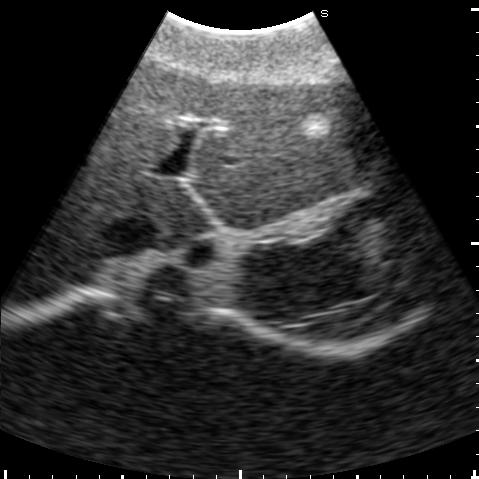IVC: (102, 216, 161, 258)
S1: (143, 181, 216, 247)
S2: (192, 131, 391, 231)
S3: (194, 71, 376, 190)
Tumor: (303, 112, 333, 141)
